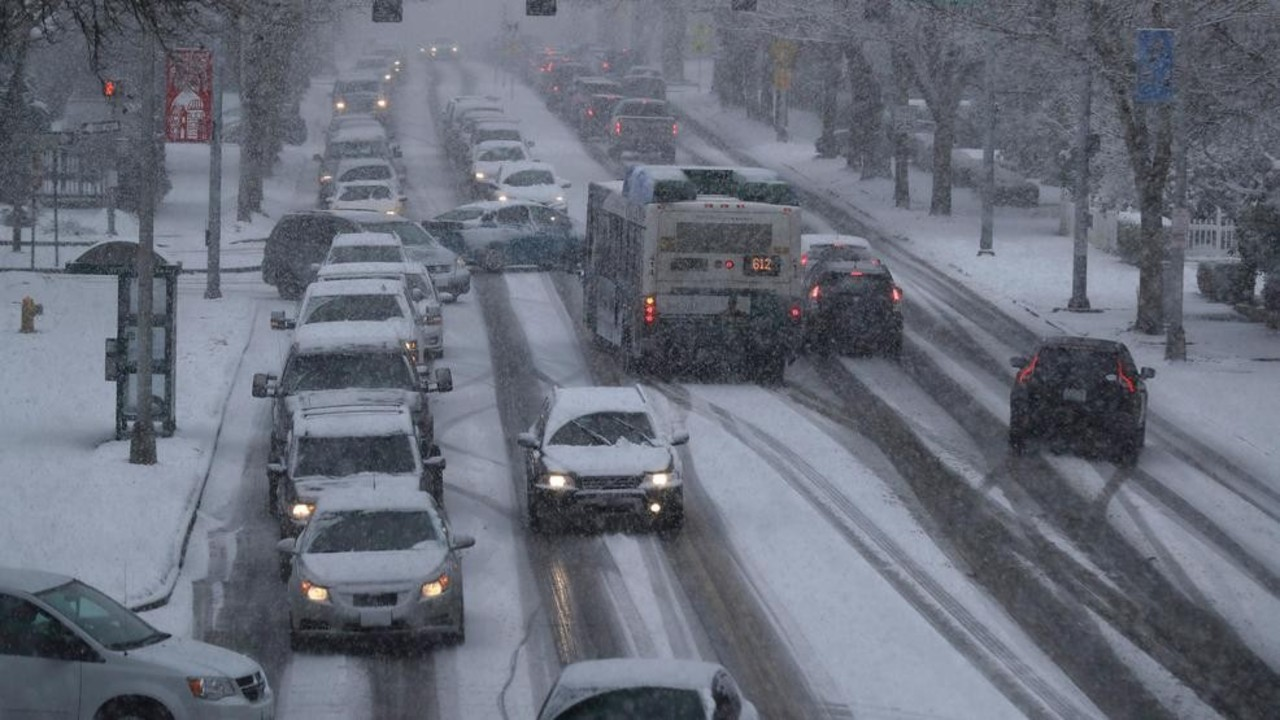bus: (582, 157, 794, 386)
car: (5, 568, 277, 719), (284, 487, 467, 650), (517, 387, 691, 540), (252, 329, 455, 456), (1002, 328, 1154, 464), (263, 205, 469, 302), (280, 411, 435, 528), (537, 658, 759, 719), (296, 271, 431, 366), (427, 199, 576, 267), (802, 260, 898, 365), (801, 226, 877, 279), (603, 98, 677, 151), (495, 165, 567, 215), (469, 141, 530, 186), (327, 71, 388, 115), (322, 160, 407, 189), (326, 118, 389, 154), (598, 48, 643, 74), (583, 93, 609, 136), (624, 70, 665, 95), (425, 32, 460, 59)
